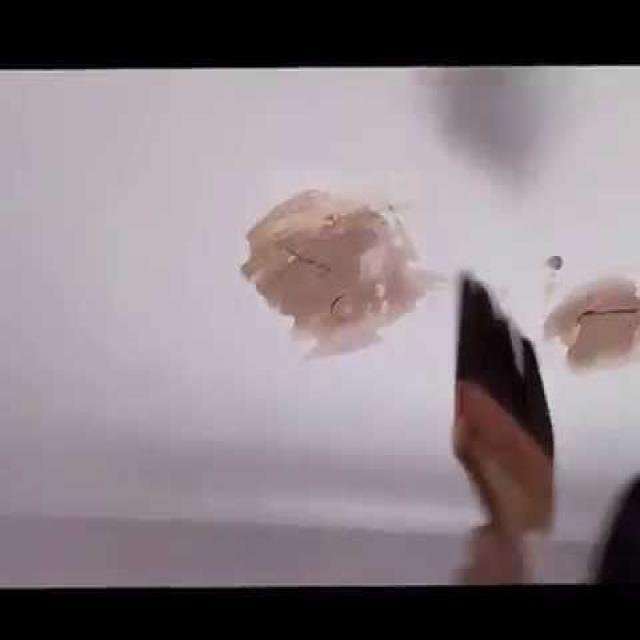Crack: (284, 244, 336, 274), (576, 302, 640, 324), (540, 254, 565, 274), (328, 293, 344, 315)
